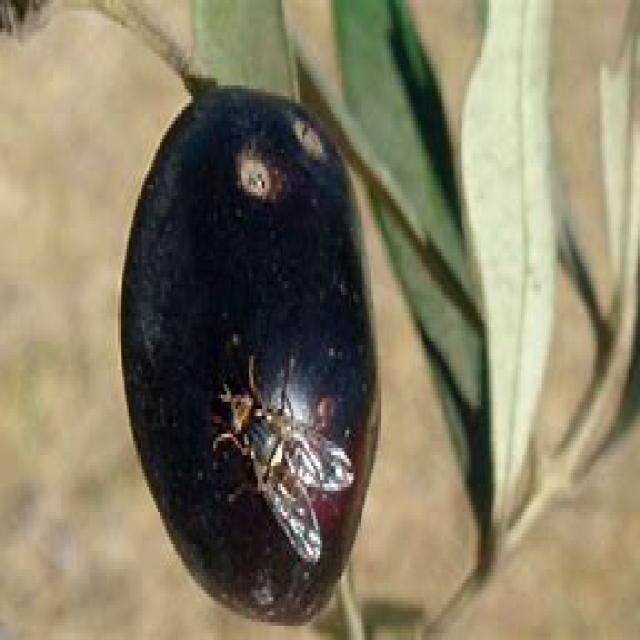Anthracnose: (120, 85, 378, 622)
